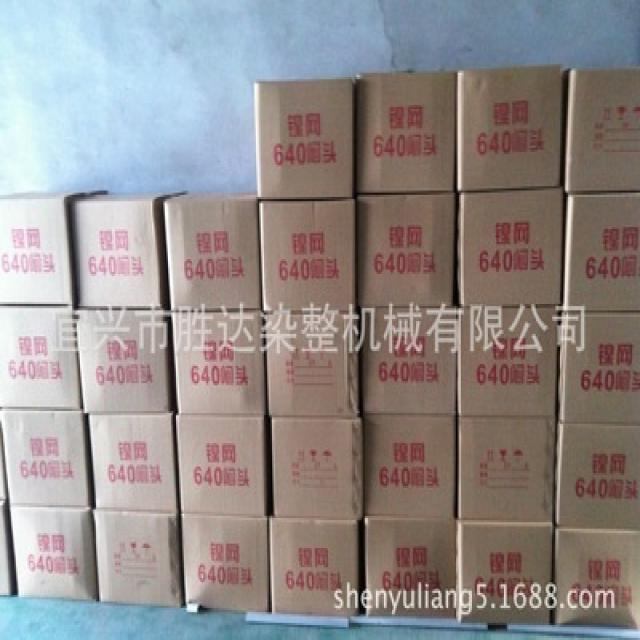box: (455, 60, 563, 192), (70, 188, 187, 306), (456, 187, 565, 307), (255, 74, 357, 199), (0, 188, 107, 306), (355, 71, 456, 193), (356, 188, 458, 307), (164, 190, 262, 309), (258, 196, 358, 311), (458, 305, 562, 414), (458, 412, 556, 521), (359, 306, 457, 414), (169, 307, 264, 416), (363, 411, 458, 519), (83, 409, 180, 513), (265, 310, 362, 414), (74, 308, 171, 411), (271, 414, 366, 518), (173, 414, 267, 519), (358, 518, 460, 614), (458, 522, 554, 623), (557, 305, 638, 424), (562, 67, 638, 189), (550, 522, 638, 627), (558, 415, 638, 529), (92, 507, 185, 603), (2, 405, 92, 504), (182, 511, 272, 610), (9, 500, 97, 601), (564, 188, 638, 308), (1, 303, 83, 410), (272, 517, 361, 612), (0, 500, 18, 596)
